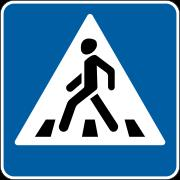Pedestrian Crossing: (18, 12, 171, 159)
